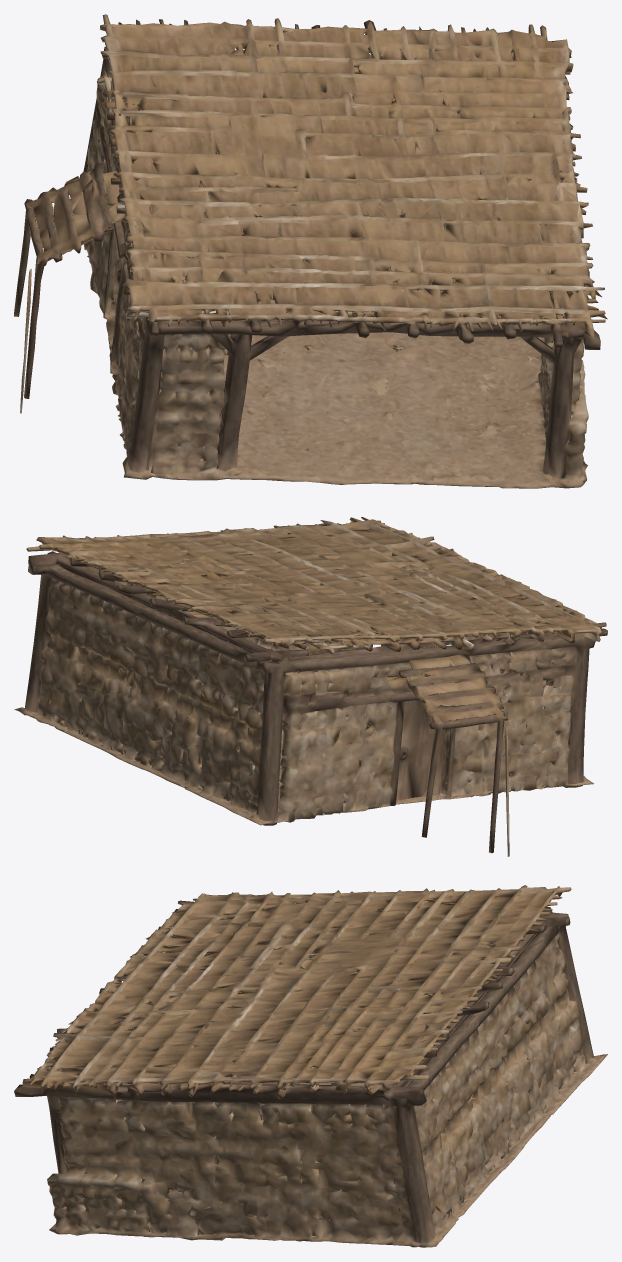
Rendered from square-nativity-stall-pixal3d-runtime.glb.
3 views of the same model, one above another, from view 1: azimuth 30°, elevation 25°; view 2: azimuth 150°, elevation 25°; view 3: azimuth 270°, elevation 25° (orthographic). The views are drawn at different scales.
Parts seen in each view (by area): view 1: geometry_0; view 2: geometry_0; view 3: geometry_0.
Part boxes in pixels (bbox=[...]): geometry_0: bbox=[14, 14, 607, 488]; geometry_0: bbox=[14, 517, 607, 856]; geometry_0: bbox=[14, 885, 607, 1247].
Bounding box in the file's own units: 6.54 × 3.41 × 6.88.
Materials: 1 (1 with a texture image).
